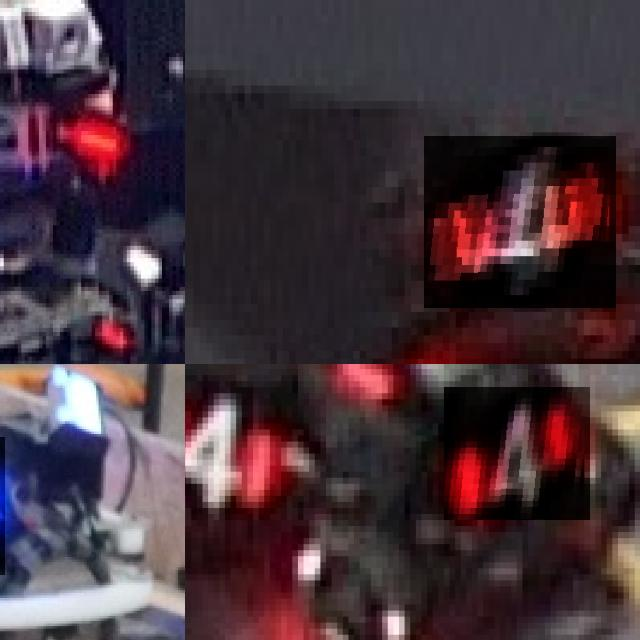R2: (424, 136, 616, 308)
R4: (444, 387, 590, 520), (185, 375, 292, 520)
